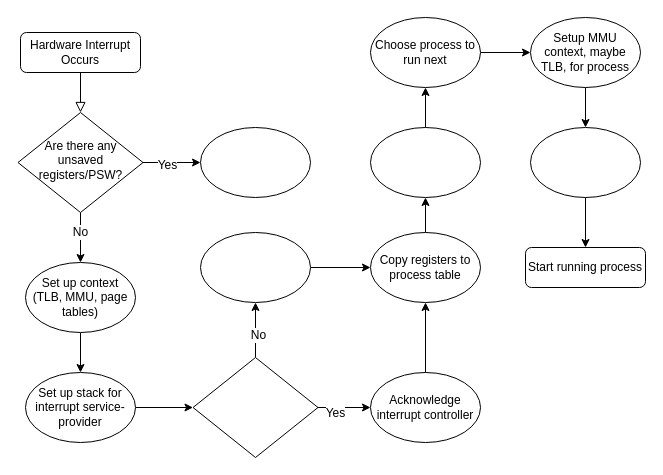
Some shapes in this 663 by 475 pixel diagram are drawn without their labels. Here are the shapes that lost their labels. From the top down, the centre of each, then its label:
point (255, 162): Save registers and PSW
point (425, 162): Run interrupt-service procedure
point (585, 162): Load process's registers, including PSW
point (255, 267): Re-enable interrupts
point (255, 407): Is there a centralized interrupt controller?
